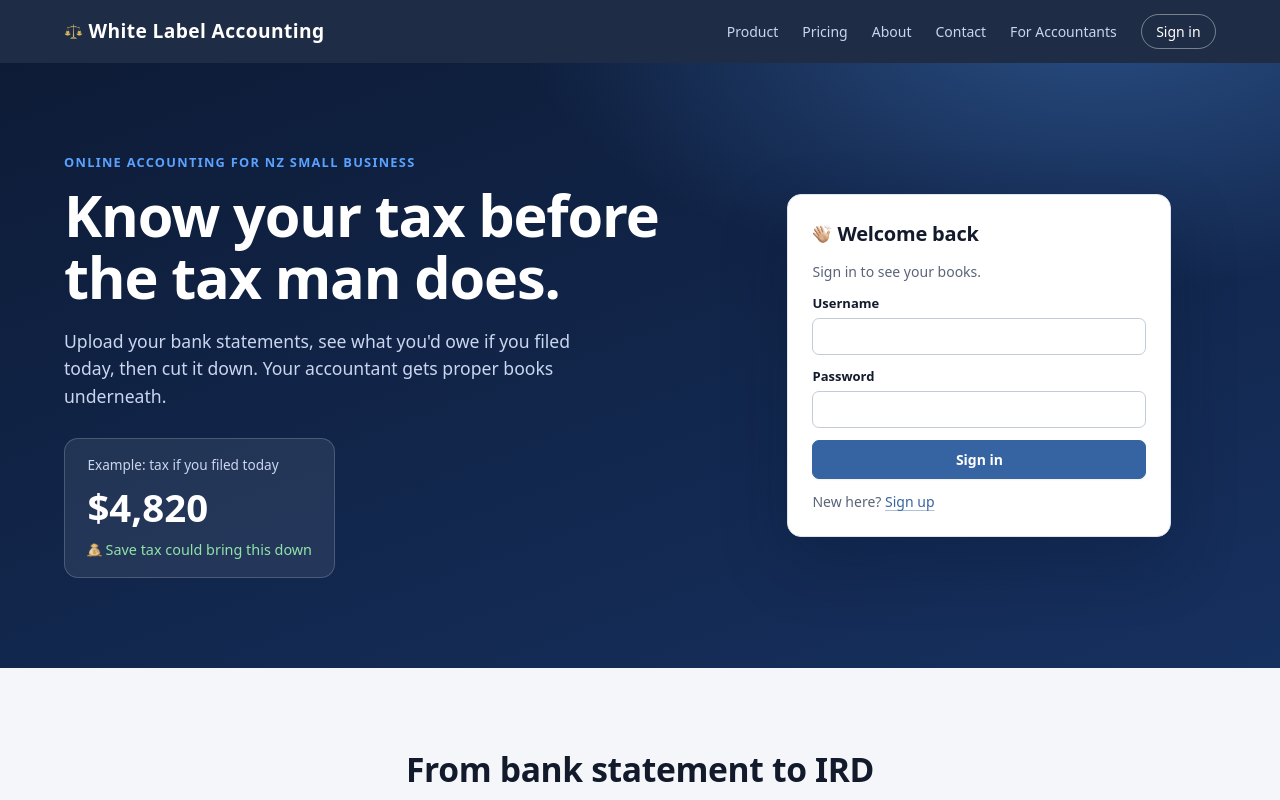
Test: App › signs in, then signs out
The width and height of the screenshot is (1280, 800).
Type "sam" into the field labelled "Username".
click(980, 336); type("sam")  # box [812,318,1146,355]
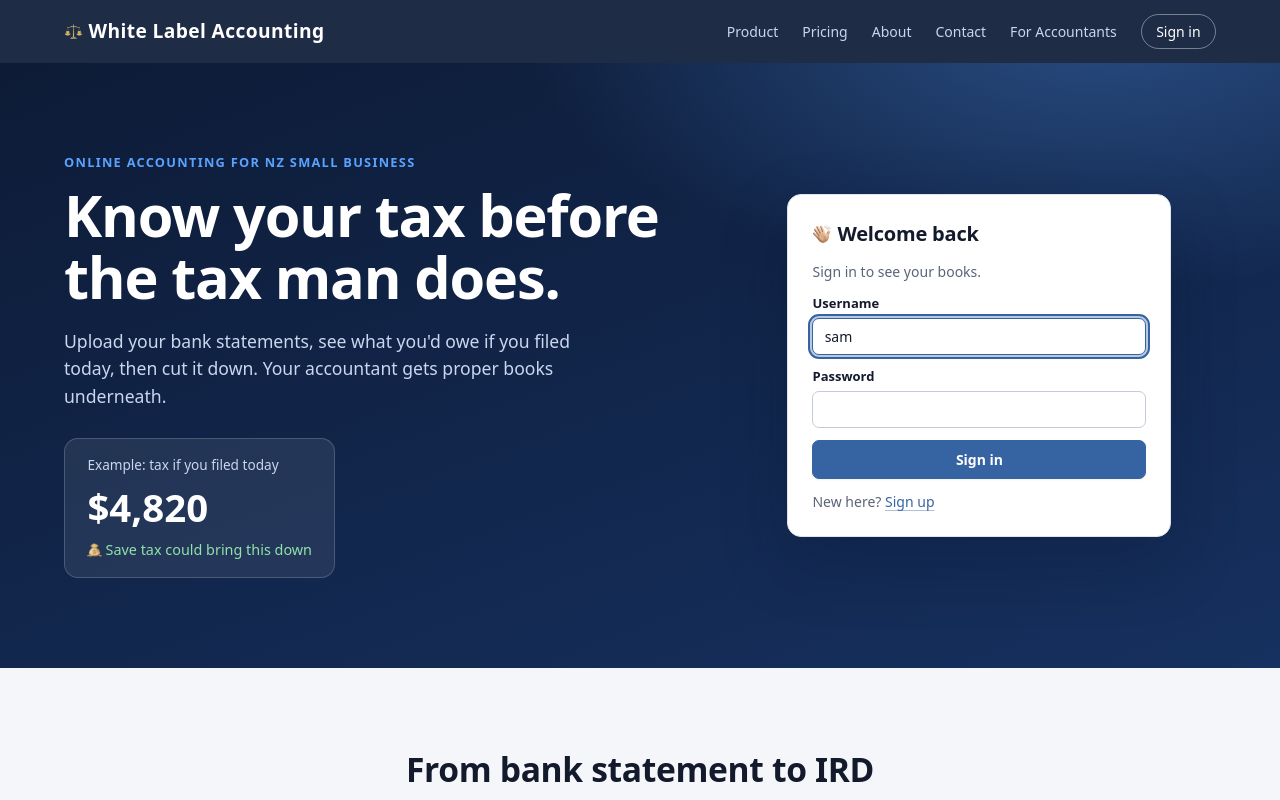
Type "pw" into the password field labelled "Password".
click(980, 410); type("pw")  # box [812,391,1146,428]
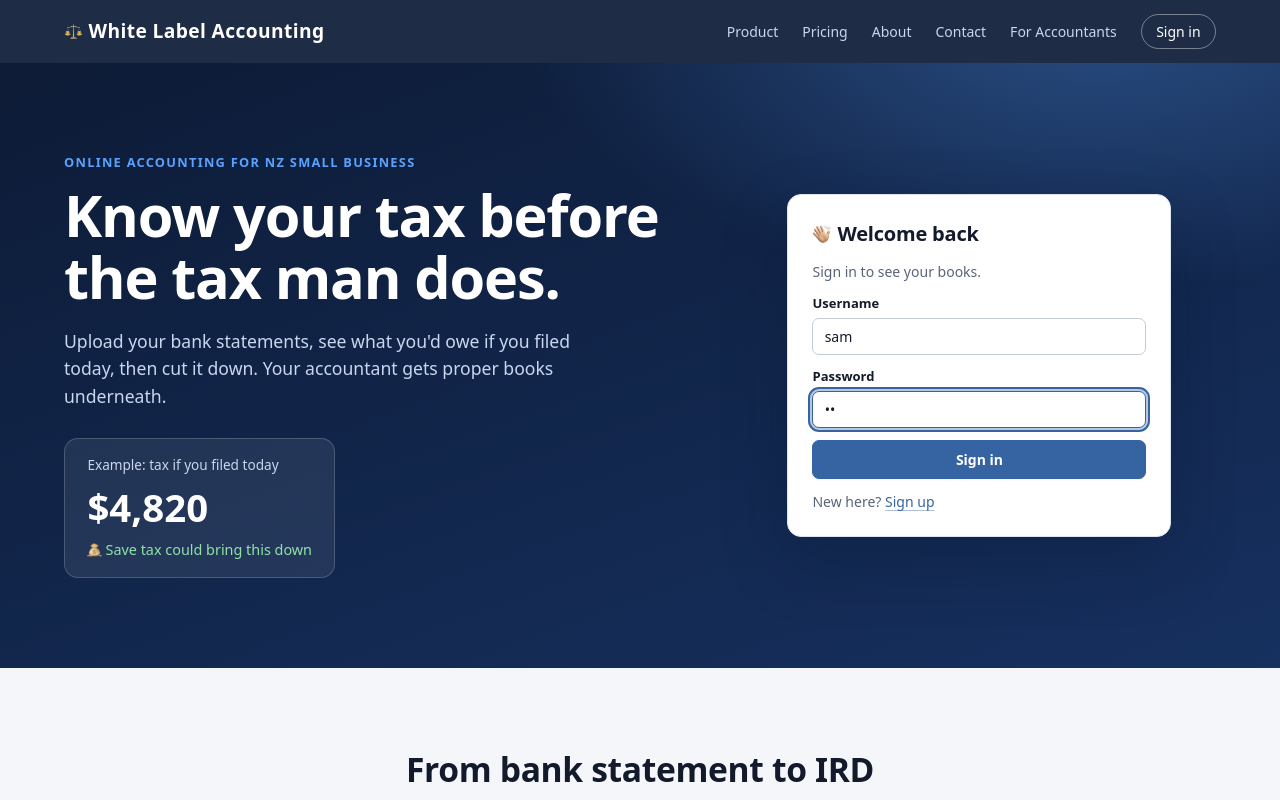
Click the button "Sign in".
click(980, 460)  # box [812,440,1146,479]
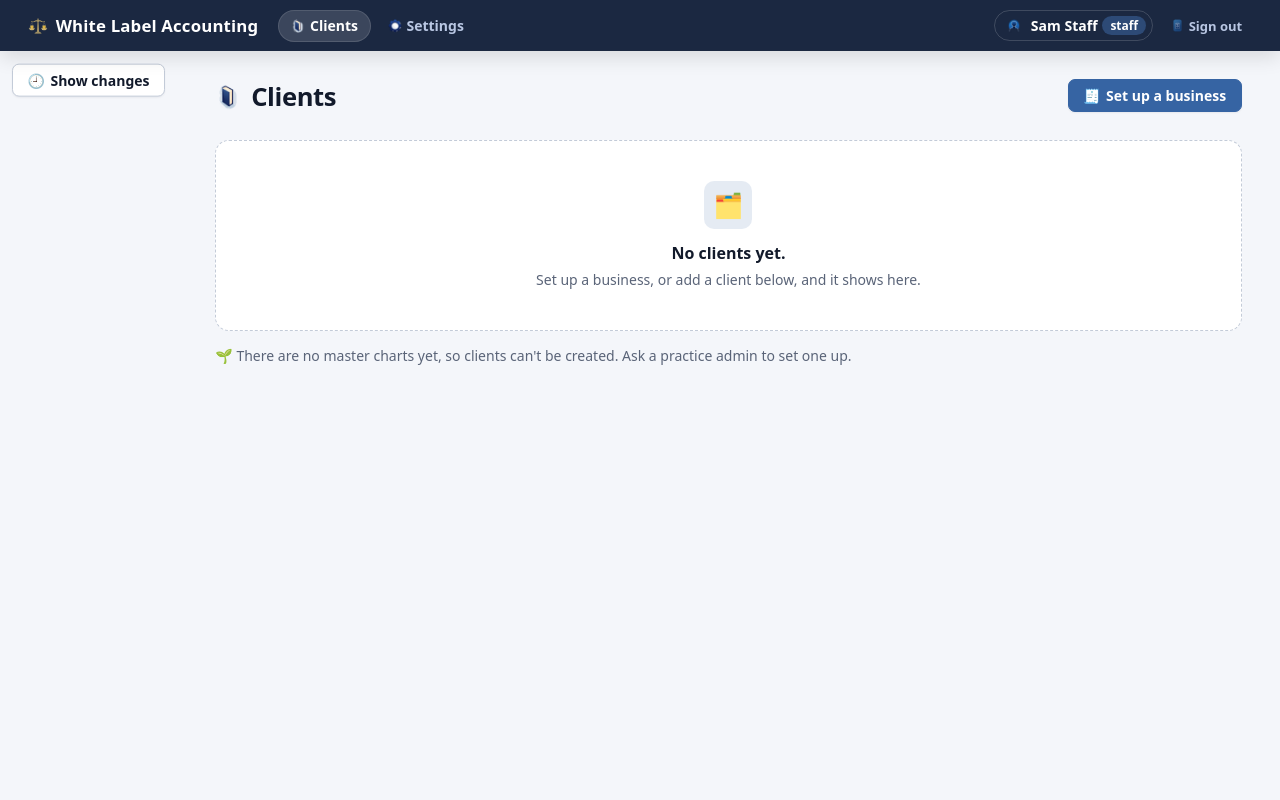
expect the link "Sam Staff staff" is shown: met, box [994,10,1153,41]
Click the button "Sign out".
click(1206, 26)  # box [1161,13,1252,38]
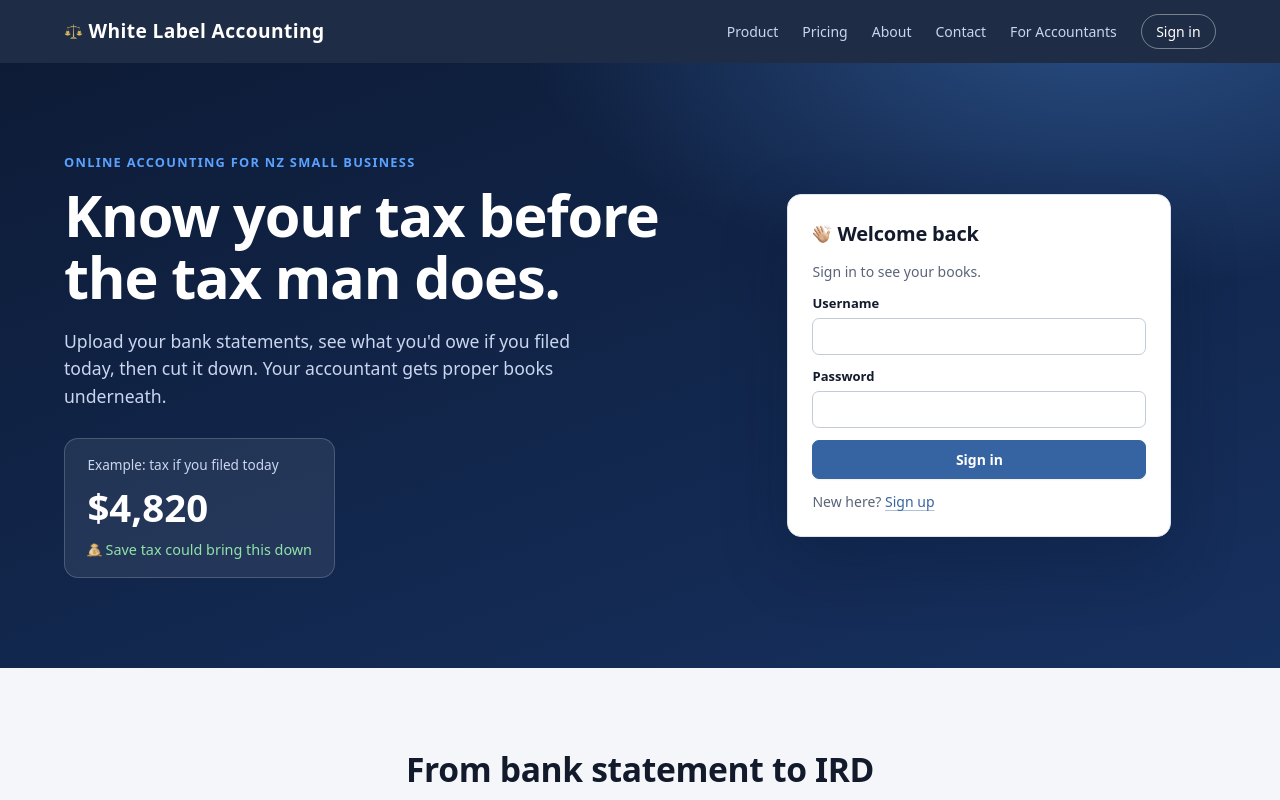
expect the field labelled "Username" is shown: met, box [812,318,1146,355]
